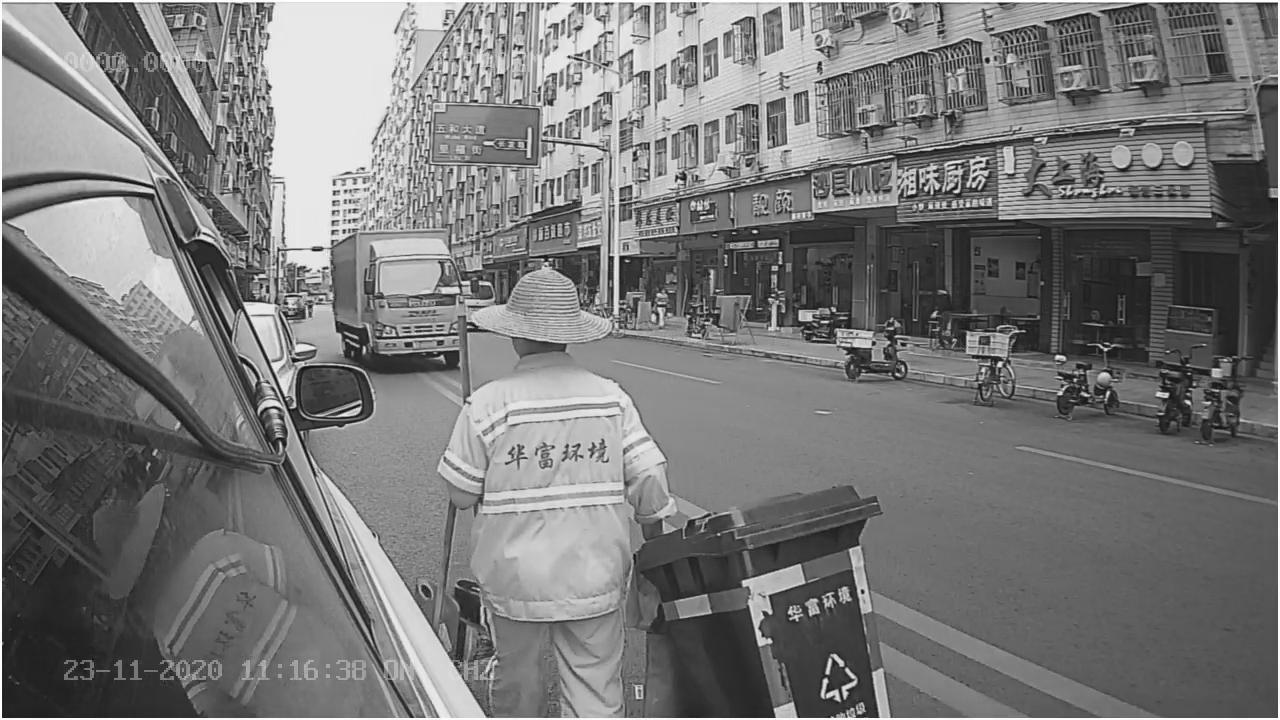person: (470, 263, 683, 530)
